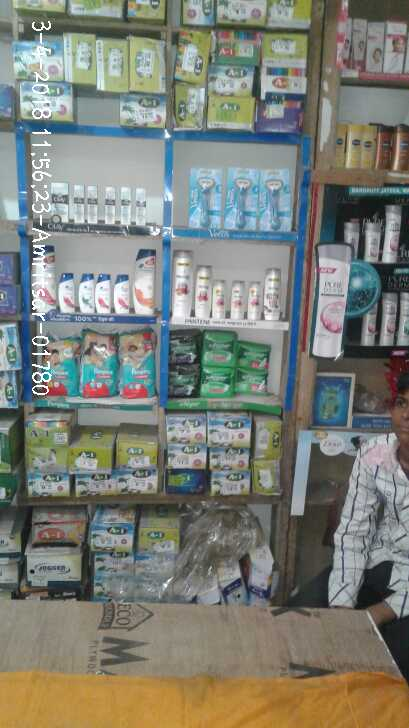venus: (190, 168, 226, 231), (226, 168, 261, 228), (261, 167, 293, 228)
